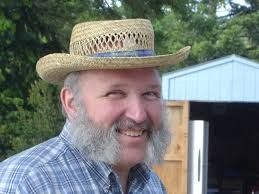no-mask: (62, 54, 175, 169)
